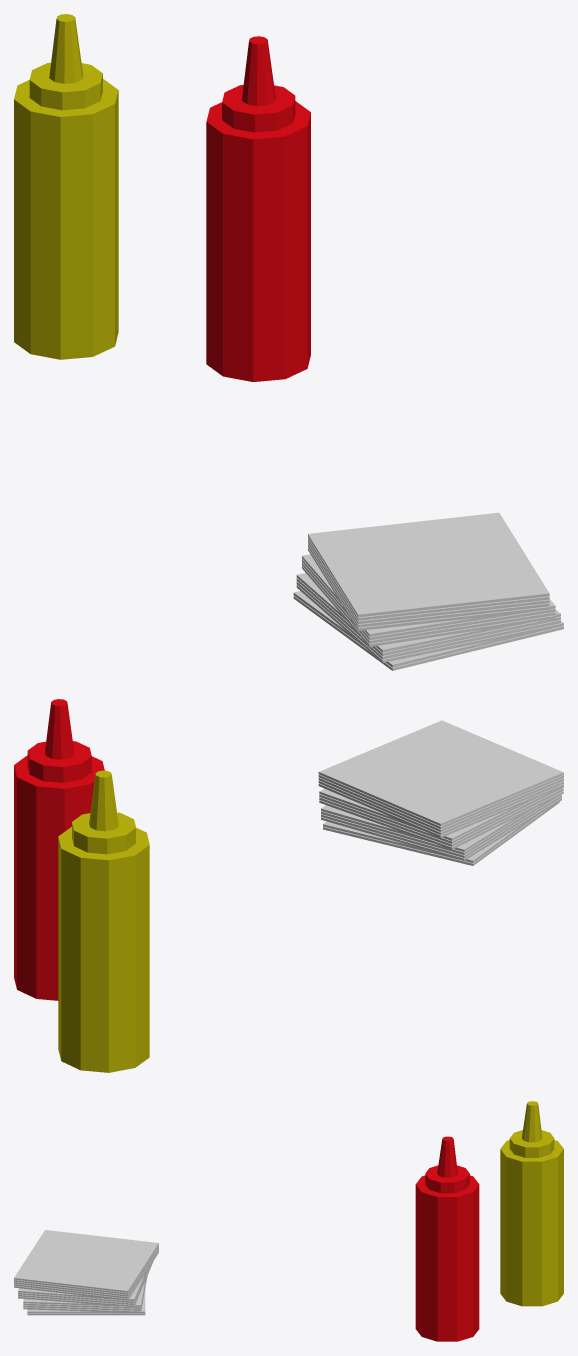
Rendered from cosas de mesa.fbx.
The picture shows the model from 3 angles, top to bottom: view 1: azimuth 30°, elevation 25°; view 2: azimuth 150°, elevation 25°; view 3: azimuth 270°, elevation 25°; orthographic projection. The views are drawn at different scales.
Visible parts, largest first — view 1: catsup, mayo, napkins; view 2: mayo, napkins, catsup; view 3: catsup, mayo, napkins.
Part boxes in pixels (box(x1,y1,x2,y2)): catsup: box(206, 36, 310, 381); mayo: box(14, 14, 118, 359); napkins: box(293, 512, 563, 670); mayo: box(58, 770, 149, 1072); napkins: box(318, 720, 563, 865); catsup: box(14, 699, 104, 1000); catsup: box(415, 1136, 479, 1341); mayo: box(500, 1101, 563, 1306); napkins: box(14, 1230, 158, 1315).
Bounding box in the file's own units: 87.47 × 94.54 × 248.
